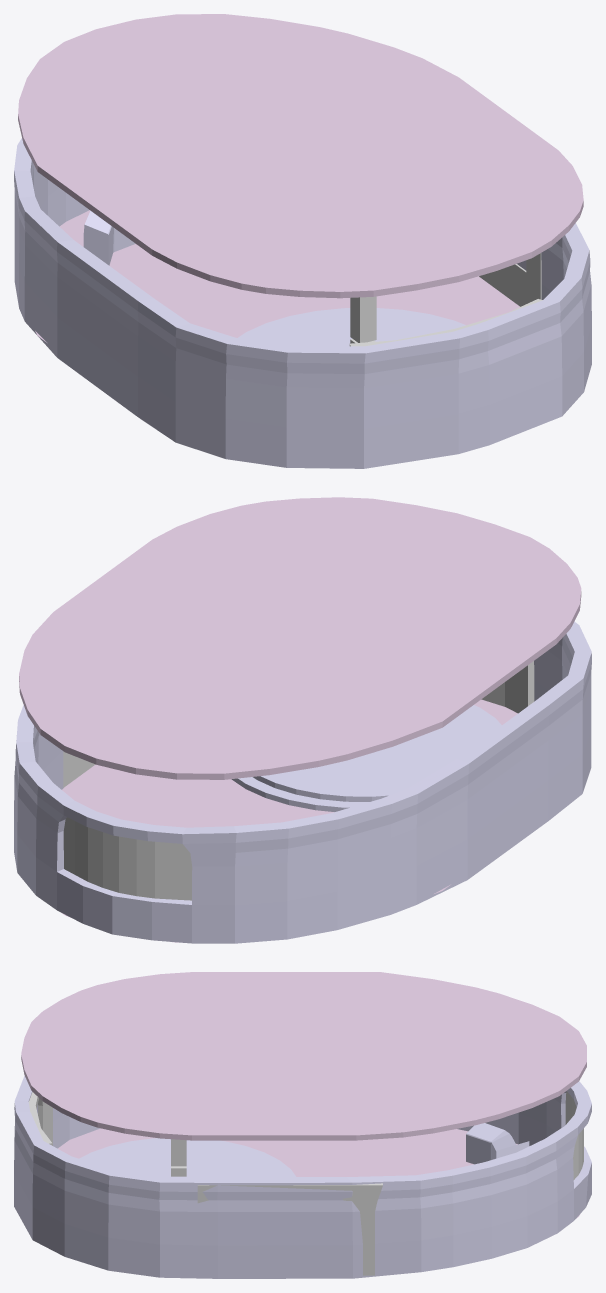
File: SpaceShip0.2.fbx
3 renders of one model, top to bottom at view 1: azimuth 30°, elevation 25°; view 2: azimuth 150°, elevation 25°; view 3: azimuth 270°, elevation 25°, orthographic. The views are drawn at different scales.
Parts seen in each view (by area): view 1: Celling, wall, ground, Base2, Backupwall, Control1, DIsplayWindow; view 2: Celling, wall, ground, Base2, Window, Backupwall, Base1; view 3: Celling, wall, ground, Base2, Backupwall, Control1, Window, Base1, DIsplayWindow.
Boxes of the visible parts, x1,y1,x2,y2 form: Celling: (18, 14, 583, 298); wall: (14, 138, 591, 468); ground: (35, 210, 519, 342); Base2: (245, 308, 461, 346); Backupwall: (349, 253, 542, 346); Control1: (83, 210, 135, 265); DIsplayWindow: (350, 296, 376, 342); Celling: (19, 497, 581, 779); wall: (14, 621, 591, 943); ground: (62, 699, 517, 942); Base2: (253, 707, 494, 801); Window: (63, 817, 192, 900); Backupwall: (63, 661, 534, 787); Base1: (231, 705, 501, 811); Celling: (21, 972, 586, 1140); wall: (14, 1075, 591, 1278); ground: (58, 1128, 580, 1218); Base2: (83, 1138, 286, 1176); Backupwall: (28, 1092, 382, 1275); Control1: (466, 1123, 515, 1164); Window: (565, 1091, 583, 1179); Base1: (79, 1138, 295, 1176); DIsplayWindow: (171, 1139, 186, 1166).
Size of the model in its own units: 3755 by 1526 by 5539.
